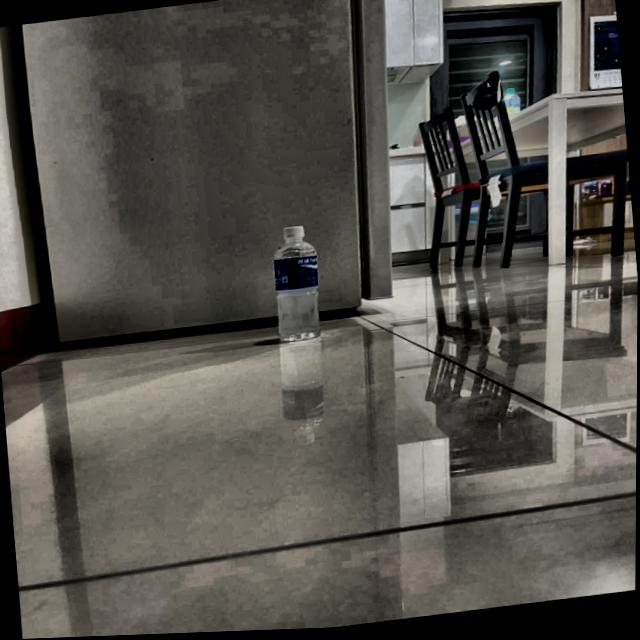Bottles: (219, 200, 379, 385)
